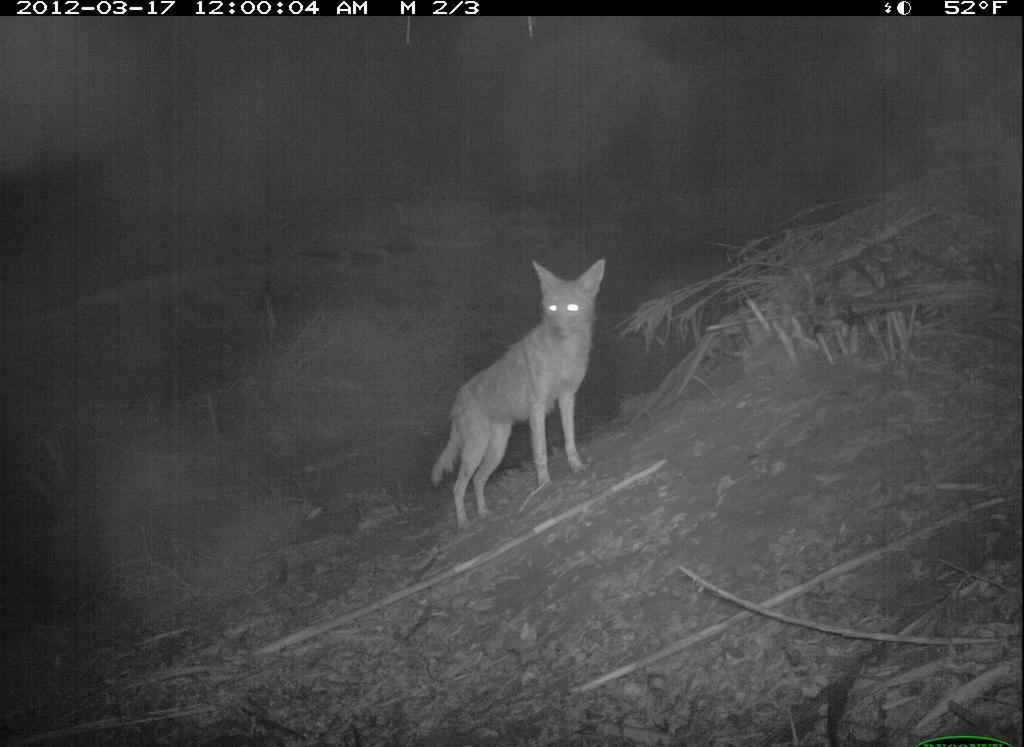coyote: (419, 254, 623, 541)
